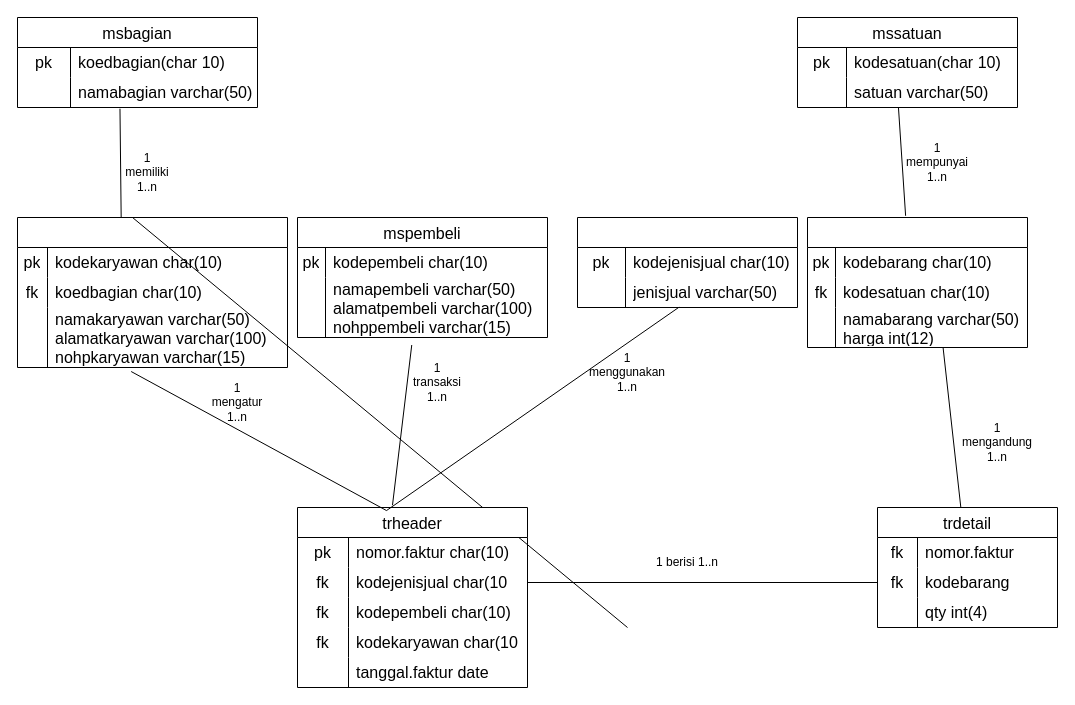
This 1075x705 diagram has some shape labels left out. The shapes that lost their labels are listed below. From the top down, each one's box as (x1, y1, x2, y2) in pixels, then its label:
(576, 216, 798, 308): msjenisjual
(806, 216, 1028, 348): msbarang
(16, 216, 288, 368): mskaryawan
